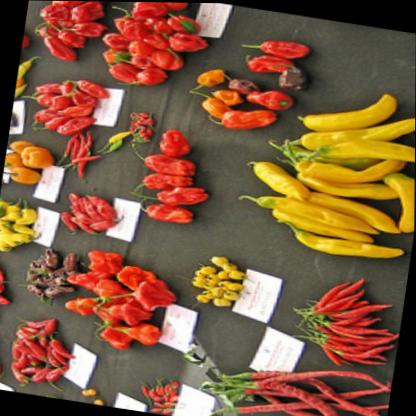chilli_pepper: (223, 69, 416, 263), (280, 264, 401, 374), (204, 351, 392, 416)
